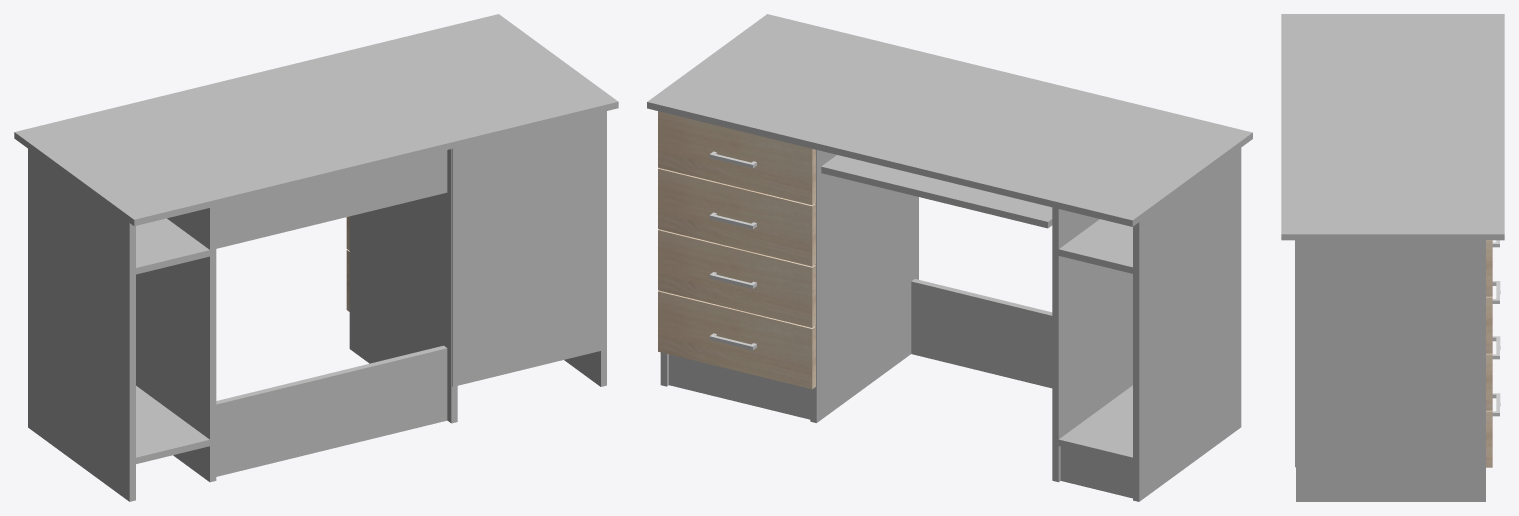
Rendered from desk.obj.
3 views of the same model, side by side, from view 1: azimuth 30°, elevation 25°; view 2: azimuth 150°, elevation 25°; view 3: azimuth 270°, elevation 25° (orthographic). The views are drawn at different scales.
Parts seen in each view (by area): view 1: Object_2_Object_0; view 2: Object_2_Object_0, Object_3_Object_1, Object_4_Object_2; view 3: Object_2_Object_0, Object_3_Object_1, Object_4_Object_2.
Part boxes in pixels (bbox=[...]): Object_2_Object_0: bbox=[14, 14, 618, 501]; Object_2_Object_0: bbox=[647, 14, 1252, 501]; Object_3_Object_1: bbox=[658, 111, 815, 389]; Object_4_Object_2: bbox=[709, 151, 756, 350]; Object_2_Object_0: bbox=[1281, 14, 1504, 501]; Object_3_Object_1: bbox=[1486, 240, 1492, 467]; Object_4_Object_2: bbox=[1492, 240, 1500, 416].
Bounding box in the file's own units: 1.4 × 0.798 × 0.6005.
